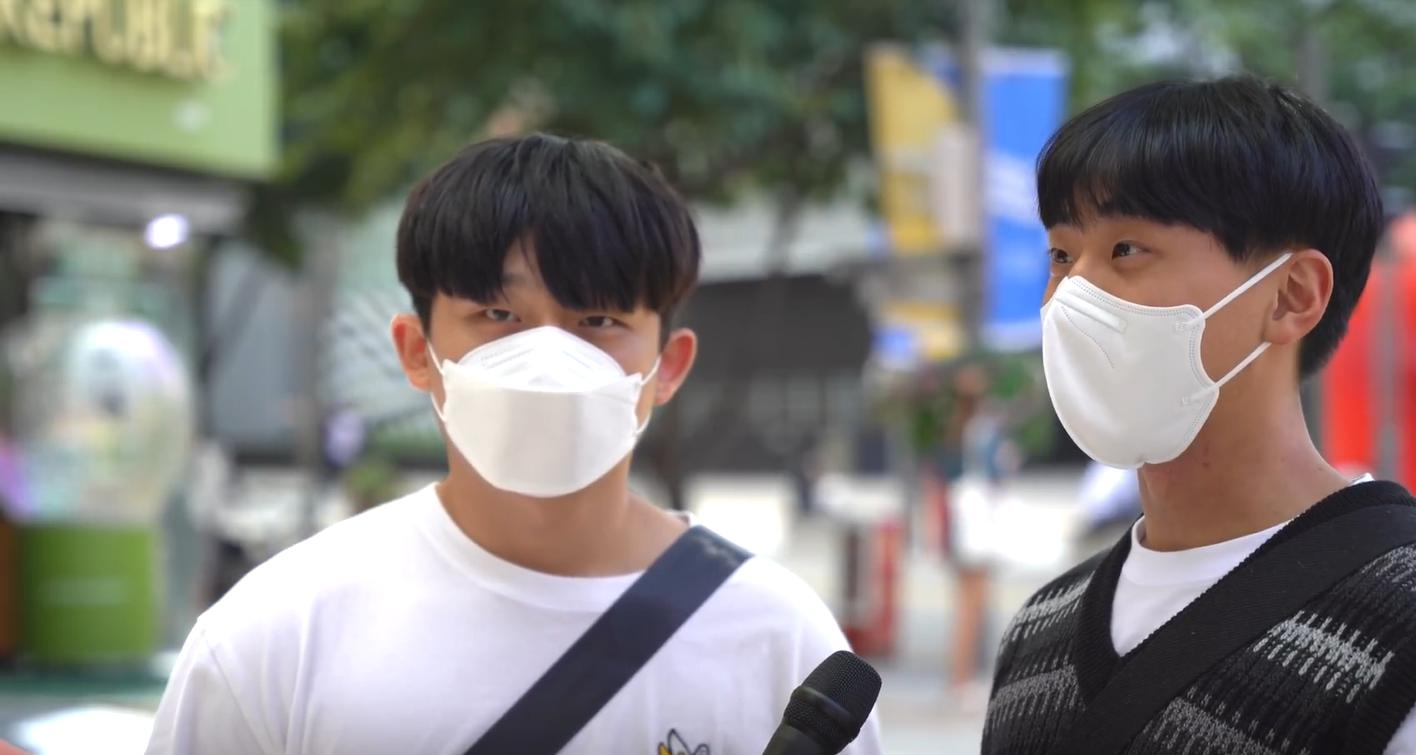with_mask: (1058, 195, 1295, 441), (440, 253, 631, 469)
